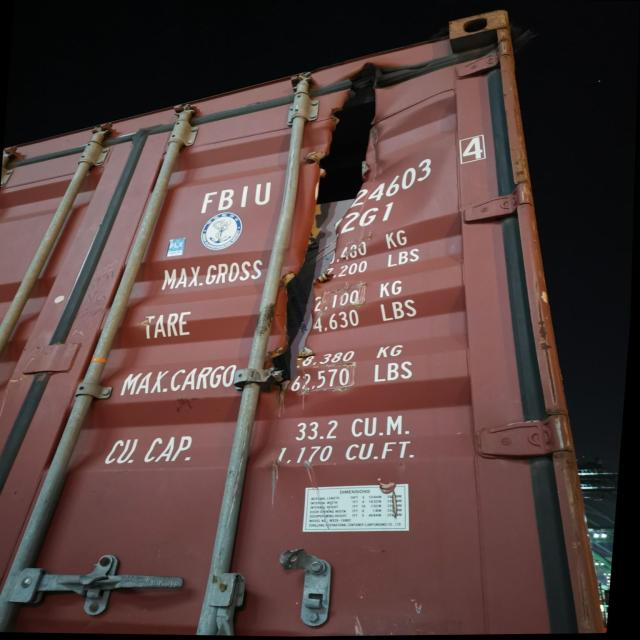hole: (268, 63, 382, 401)
